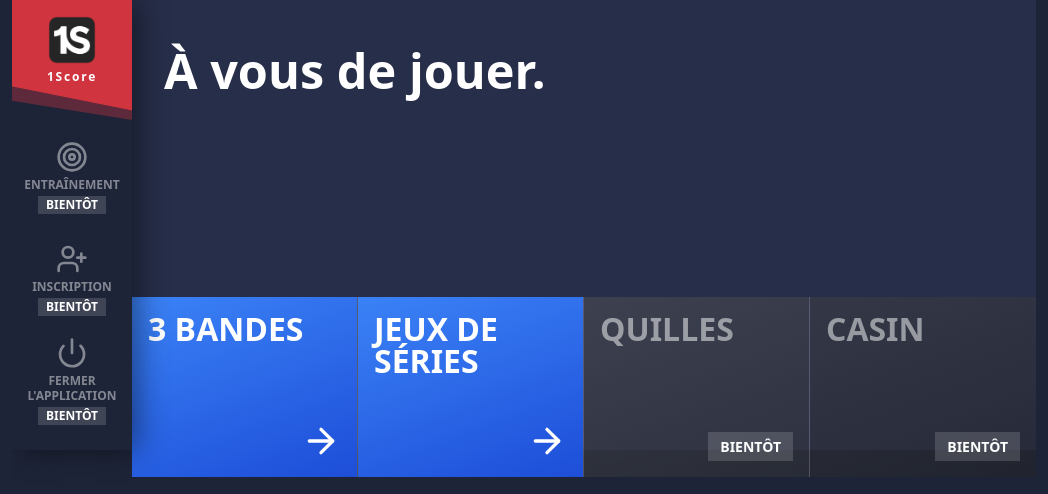
Test: HomeScreen › opens the sub-mode step for a category holding several modes
Press the mouse on the button with test id "category-series" at (471, 387), box [358,297,584,477]
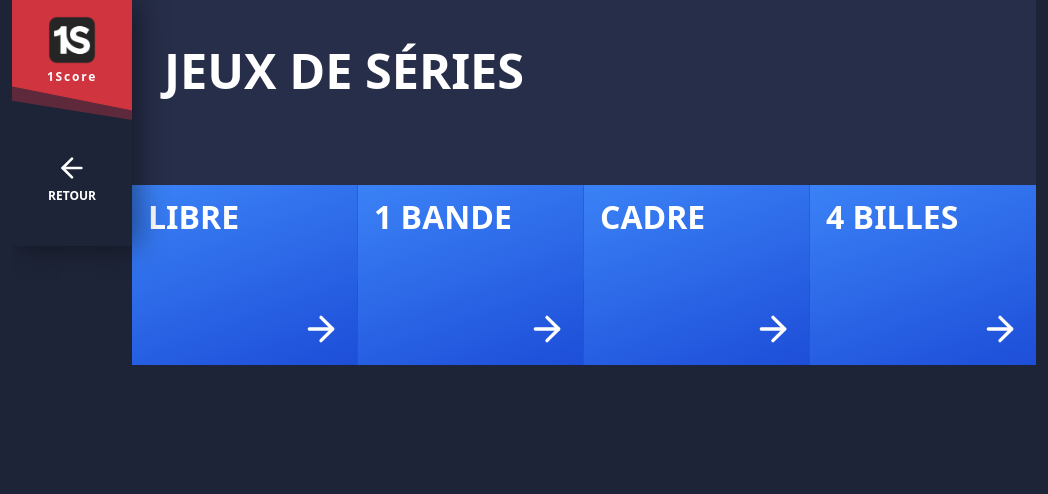
Result: the element with test id "step-mode" is shown at [12,0,1036,281]
Result: the button with test id "mode-cadre" is shown at [584,185,810,365]
